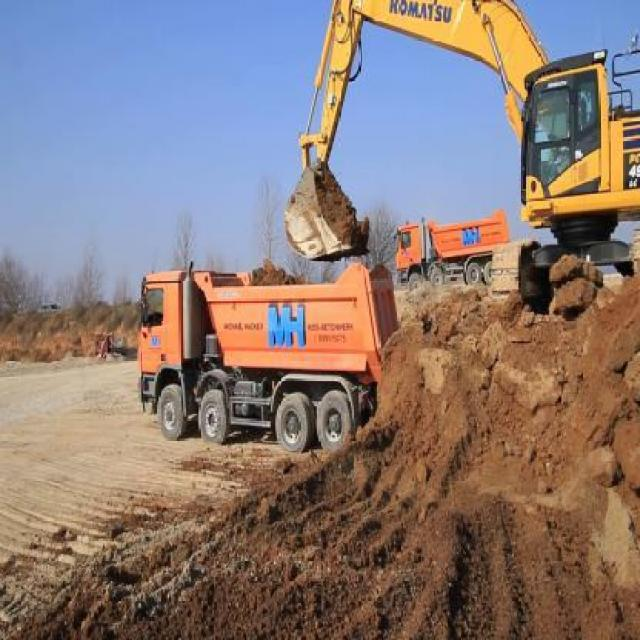Dump Truck: (138, 267, 398, 448), (395, 208, 494, 290)
Excavator: (286, 0, 639, 311)
